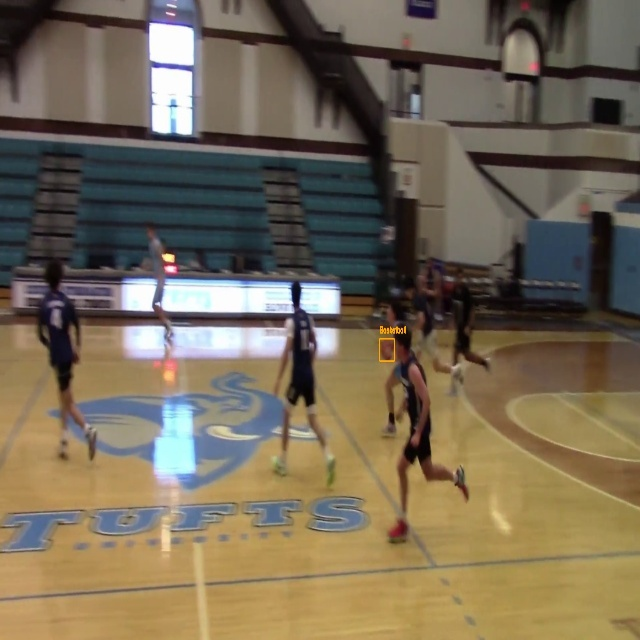Basketball: (380, 339, 394, 361)
